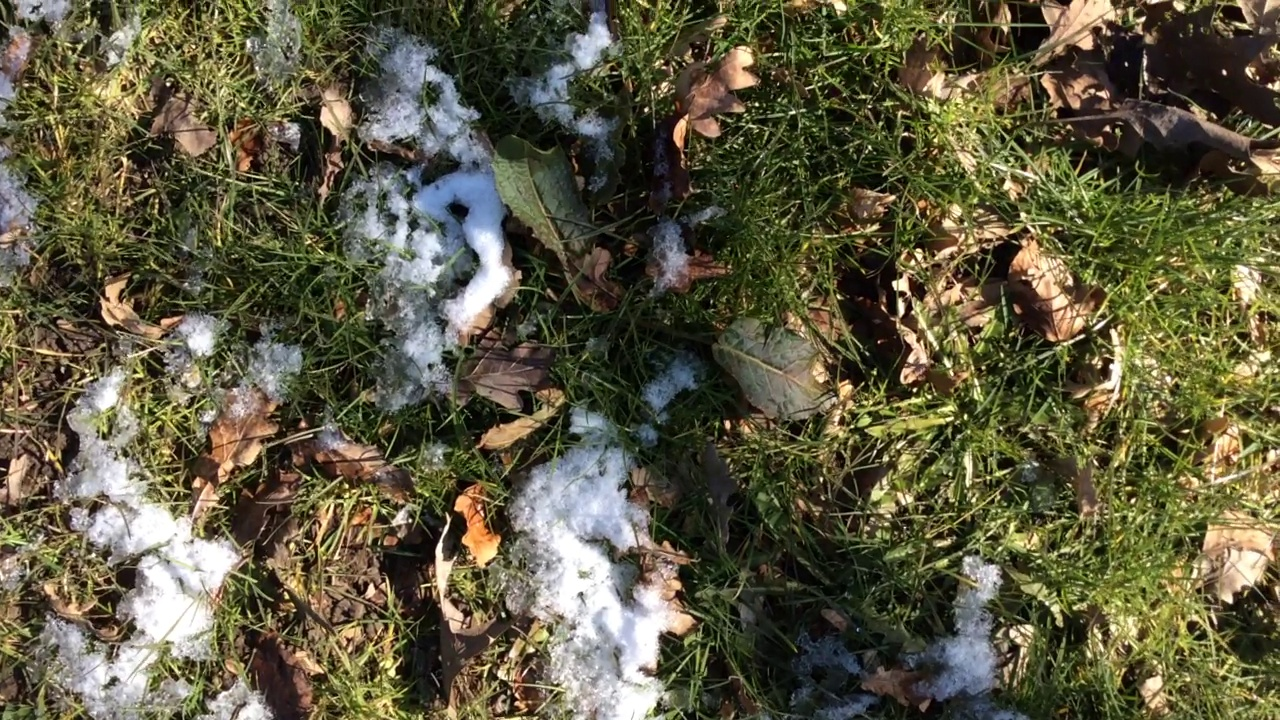root: (608, 289, 695, 344)
rumex: (484, 129, 839, 423)
